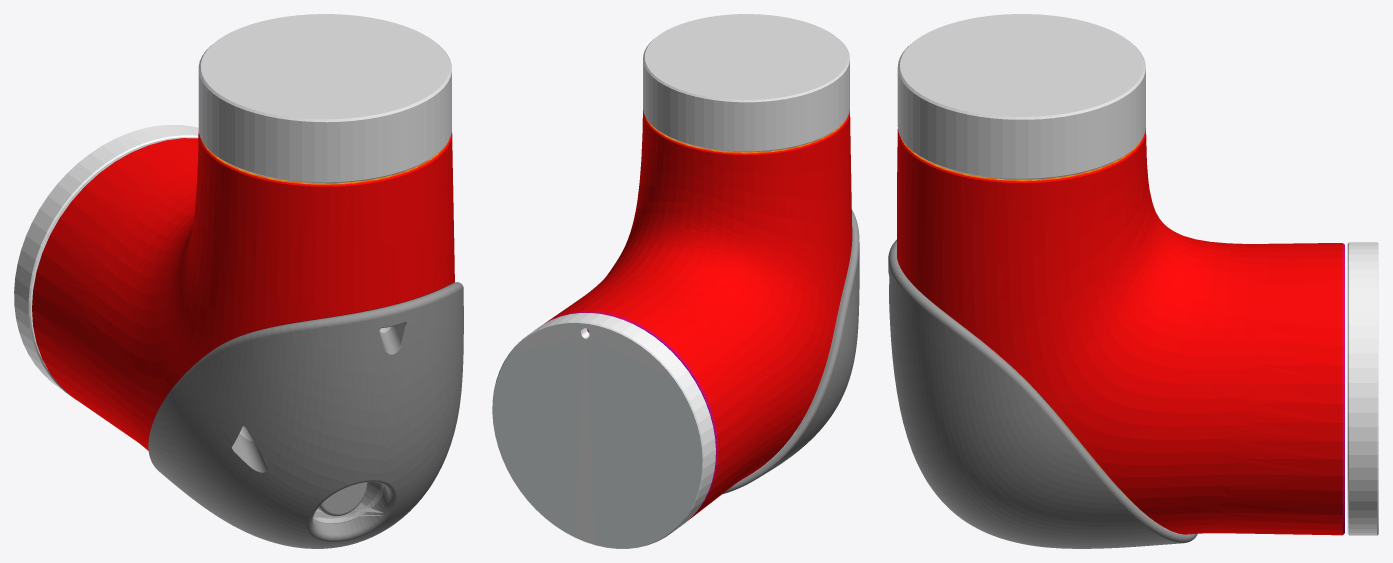
File: SawyerLink4.dae
The picture shows the model from 3 angles, left to right: view 1: azimuth 30°, elevation 25°; view 2: azimuth 150°, elevation 25°; view 3: azimuth 270°, elevation 25°; orthographic projection. The views are drawn at different scales.
Parts seen in each view (by area): view 1: SawyerLink4; view 2: SawyerLink4; view 3: SawyerLink4.
Boxes of the visible parts, <box> form: SawyerLink4: <box>14,14,463,548</box>; SawyerLink4: <box>492,14,859,548</box>; SawyerLink4: <box>888,14,1378,548</box>.
Bounding box in the file's own units: 0.108 × 0.1739 × 0.1839.
